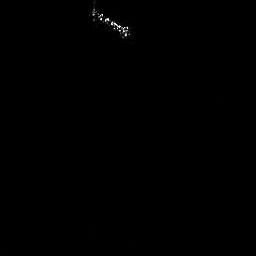ship: (87, 6, 130, 39)
